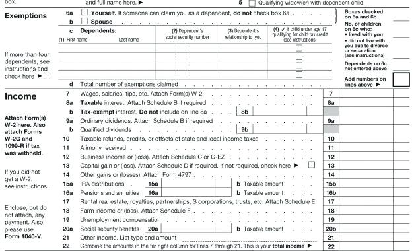checkbox: (294, 69, 303, 79), (306, 160, 316, 169), (294, 43, 303, 52), (294, 52, 303, 61), (294, 61, 303, 70), (79, 7, 88, 16), (79, 16, 88, 25), (42, 71, 51, 80), (248, 1, 256, 7)
textbox: (55, 67, 157, 80), (55, 59, 158, 71), (337, 122, 395, 143), (337, 104, 394, 125), (56, 42, 158, 53), (55, 51, 157, 61), (154, 67, 220, 80), (154, 41, 220, 53), (154, 50, 220, 62), (154, 59, 220, 71), (337, 176, 395, 188), (337, 195, 395, 207), (250, 104, 308, 116), (159, 177, 217, 189), (337, 95, 394, 107), (337, 141, 394, 153), (337, 150, 394, 162), (337, 158, 394, 170), (337, 167, 394, 179), (337, 203, 394, 215), (337, 212, 394, 224), (337, 221, 394, 233), (337, 230, 394, 242), (337, 239, 394, 251), (250, 123, 307, 135), (158, 222, 215, 234), (217, 68, 269, 81), (217, 50, 268, 63), (337, 186, 395, 197), (337, 87, 394, 98), (160, 186, 217, 197), (217, 59, 269, 71), (217, 42, 268, 54), (391, 122, 410, 143), (392, 105, 411, 125), (391, 71, 411, 87), (391, 141, 411, 153), (213, 185, 233, 197), (212, 221, 232, 233), (392, 96, 411, 108), (391, 158, 410, 170), (392, 167, 411, 179), (392, 176, 411, 188), (392, 194, 411, 206), (391, 203, 410, 215), (391, 212, 410, 224), (391, 221, 410, 233), (391, 230, 410, 242), (391, 87, 411, 98), (391, 240, 411, 251), (213, 177, 233, 188), (390, 149, 409, 160), (391, 186, 410, 197)
textline: (179, 234, 319, 242), (392, 10, 411, 22), (392, 26, 411, 38), (391, 59, 410, 71), (392, 48, 411, 59)
